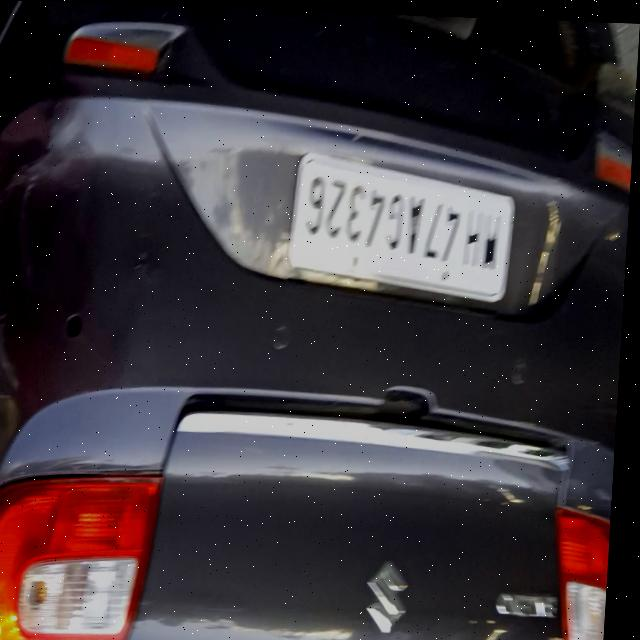plate: (290, 149, 519, 301)
